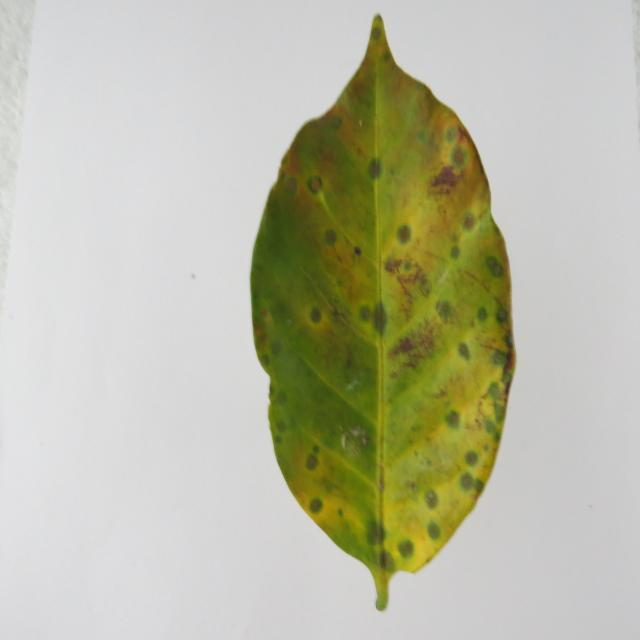DeficienciaNutricional-Nitrogeno: (251, 15, 515, 610)
